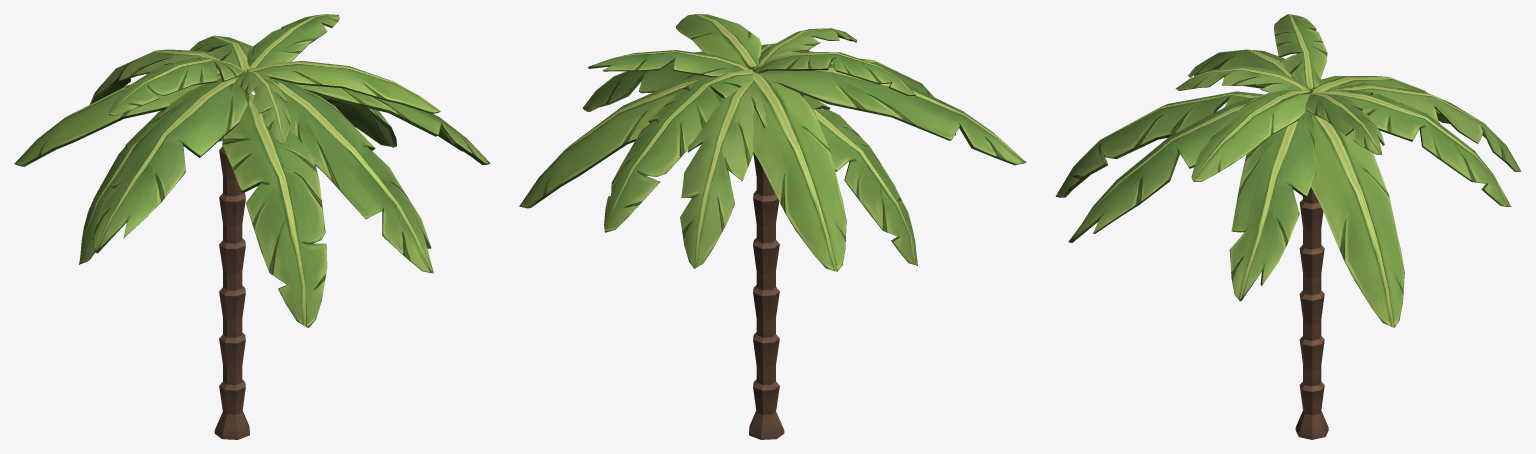
The model's file is yazasu2.FBX.
3 renders of one model, left to right at view 1: azimuth 30°, elevation 25°; view 2: azimuth 150°, elevation 25°; view 3: azimuth 270°, elevation 25°, orthographic. The views are drawn at different scales.
Parts seen in each view (by area): view 1: Plane089; view 2: Plane089; view 3: Plane089.
Part boxes in pixels (<box>): Plane089: <box>14,14,490,439</box>; Plane089: <box>519,14,1026,439</box>; Plane089: <box>1055,14,1521,439</box>.
Bounding box in the file's own units: 177 × 156 × 176.
